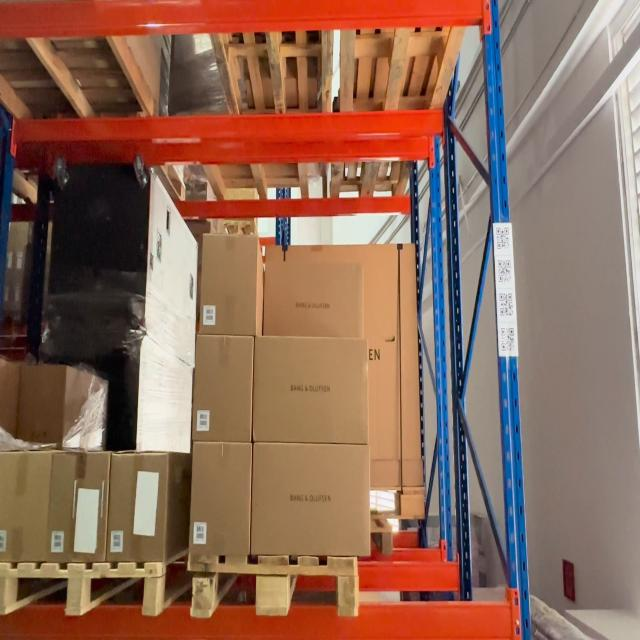box: (254, 448, 368, 554), (254, 338, 367, 441), (263, 262, 360, 338), (108, 456, 168, 561), (50, 452, 108, 559), (193, 339, 253, 440), (191, 448, 249, 551), (201, 237, 257, 335)
